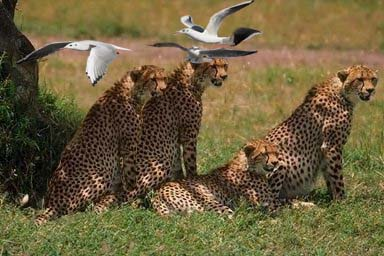copymove: (45, 65, 166, 217)
removal: (43, 88, 113, 209)
spliced: (147, 3, 262, 68), (16, 37, 133, 84)
